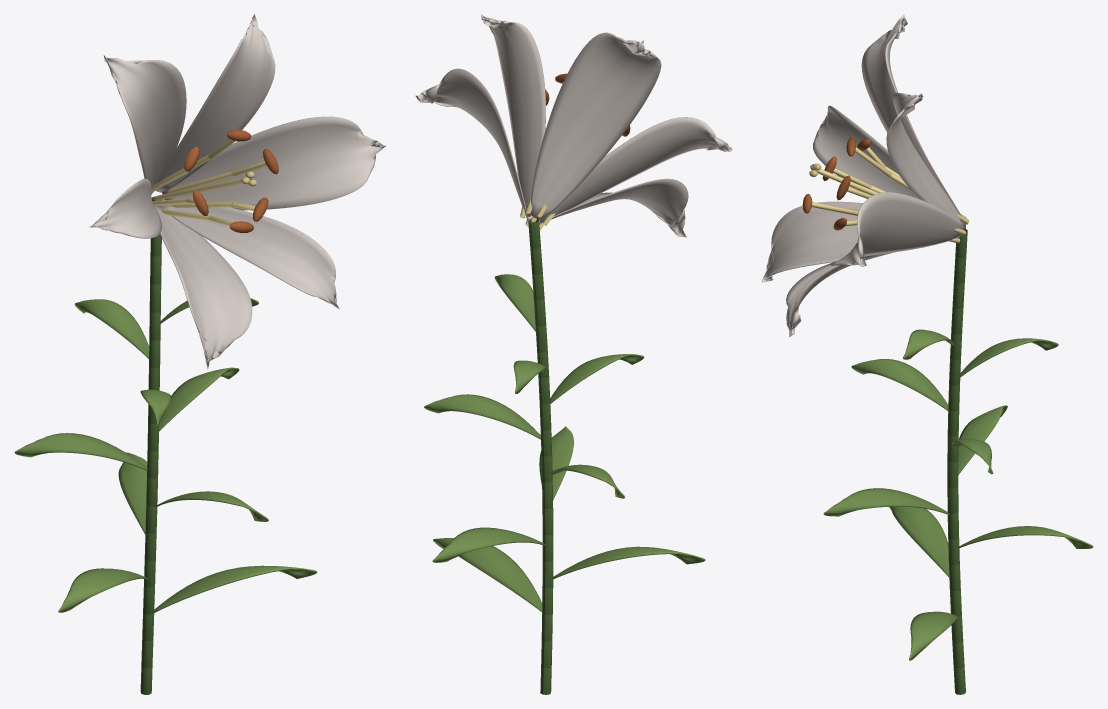
File: true-lily-fine-v2.glb
3 renders of one model, left to right at view 1: azimuth 30°, elevation 25°; view 2: azimuth 150°, elevation 25°; view 3: azimuth 270°, elevation 25°, orthographic. The views are drawn at different scales.
Parts seen in each view (by area): view 1: true-lily-fine-v2-petal, true-lily-fine-v2-leaf, true-lily-fine-v2-stem, true-lily-fine-v2-center, true-lily-fine-v2-pollen; view 2: true-lily-fine-v2-petal, true-lily-fine-v2-leaf, true-lily-fine-v2-stem; view 3: true-lily-fine-v2-petal, true-lily-fine-v2-leaf, true-lily-fine-v2-stem, true-lily-fine-v2-center, true-lily-fine-v2-pollen.
Boxes of the visible parts, bbox=[...] form: true-lily-fine-v2-petal: bbox=[89, 14, 385, 369]; true-lily-fine-v2-leaf: bbox=[14, 298, 317, 612]; true-lily-fine-v2-stem: bbox=[140, 196, 162, 694]; true-lily-fine-v2-center: bbox=[151, 139, 266, 226]; true-lily-fine-v2-pollen: bbox=[184, 129, 278, 232]; true-lily-fine-v2-petal: bbox=[415, 14, 732, 237]; true-lily-fine-v2-leaf: bbox=[424, 274, 705, 612]; true-lily-fine-v2-stem: bbox=[528, 218, 553, 694]; true-lily-fine-v2-petal: bbox=[761, 14, 965, 337]; true-lily-fine-v2-leaf: bbox=[823, 329, 1093, 660]; true-lily-fine-v2-stem: bbox=[947, 228, 967, 694]; true-lily-fine-v2-center: bbox=[809, 147, 968, 243]; true-lily-fine-v2-pollen: bbox=[802, 137, 870, 230].
Size of the model in its own units: 1.13 by 2.33 by 1.09.
